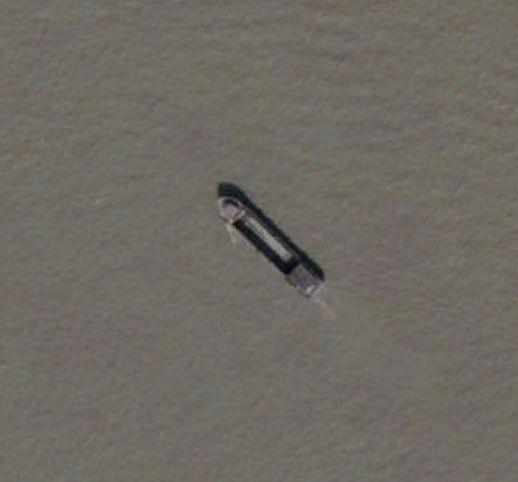Ships: (199, 179, 365, 328)
